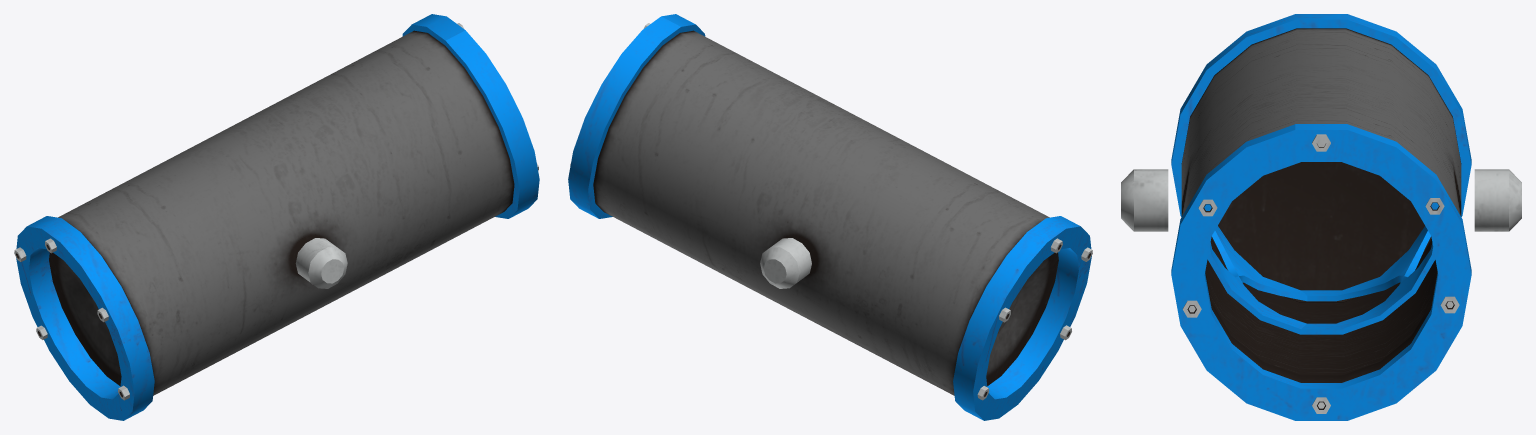
The model's file is ball_shooter_launcher.dae.
3 renders of one model, left to right at view 1: azimuth 30°, elevation 25°; view 2: azimuth 150°, elevation 25°; view 3: azimuth 270°, elevation 25°, orthographic. The views are drawn at different scales.
Parts seen in each view (by area): view 1: Launcher; view 2: Launcher; view 3: Launcher.
Boxes of the visible parts, bbox=[...] form: Launcher: bbox=[14, 14, 539, 420]; Launcher: bbox=[568, 14, 1092, 420]; Launcher: bbox=[1121, 14, 1521, 420].
Bounding box in the file's own units: 0.1961 × 0.1073 × 0.1227.
Materials: 1 (1 with a texture image).
